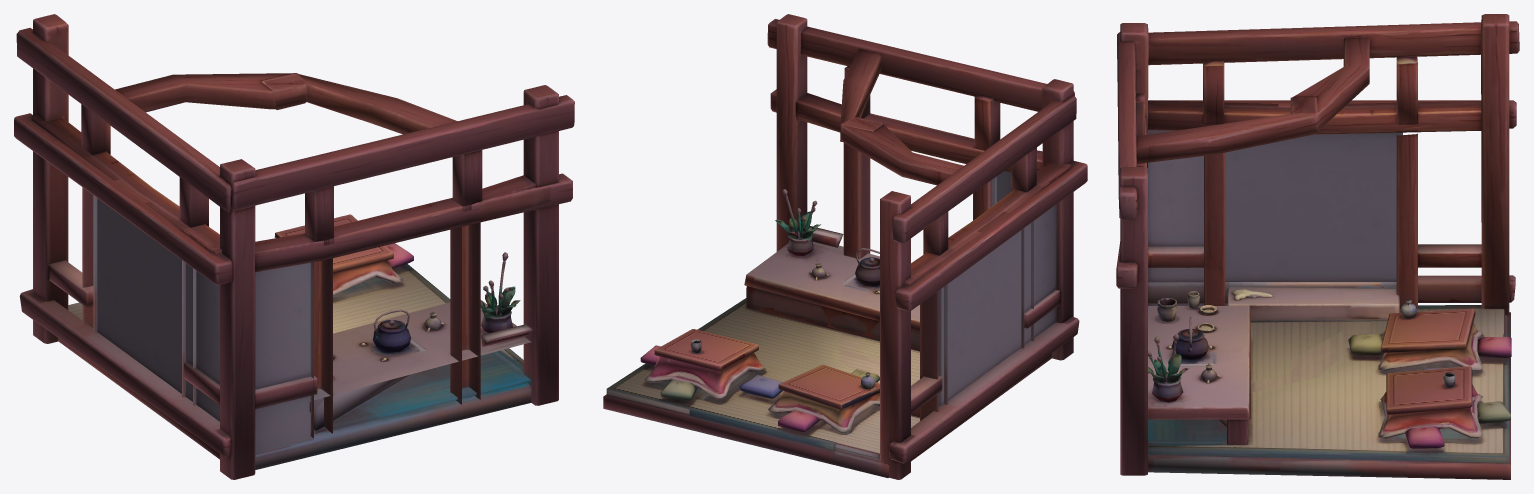
File: tea_house_interior.glb
The picture shows the model from 3 angles, left to right: view 1: azimuth 30°, elevation 25°; view 2: azimuth 150°, elevation 25°; view 3: azimuth 270°, elevation 25°; orthographic projection. The views are drawn at different scales.
Parts seen in each view (by area): view 1: tripo_node_9025cba9-3d37-417e-8eb5-e201c496c907; view 2: tripo_node_9025cba9-3d37-417e-8eb5-e201c496c907; view 3: tripo_node_9025cba9-3d37-417e-8eb5-e201c496c907.
Part boxes in pixels (x1,y1,x2,y2): tripo_node_9025cba9-3d37-417e-8eb5-e201c496c907: (14, 14, 574, 479); tripo_node_9025cba9-3d37-417e-8eb5-e201c496c907: (603, 14, 1087, 479); tripo_node_9025cba9-3d37-417e-8eb5-e201c496c907: (1116, 14, 1519, 479).
Bounding box in the file's own units: 0.998 × 0.8379 × 0.998.
Materials: 1 (1 with a texture image).
